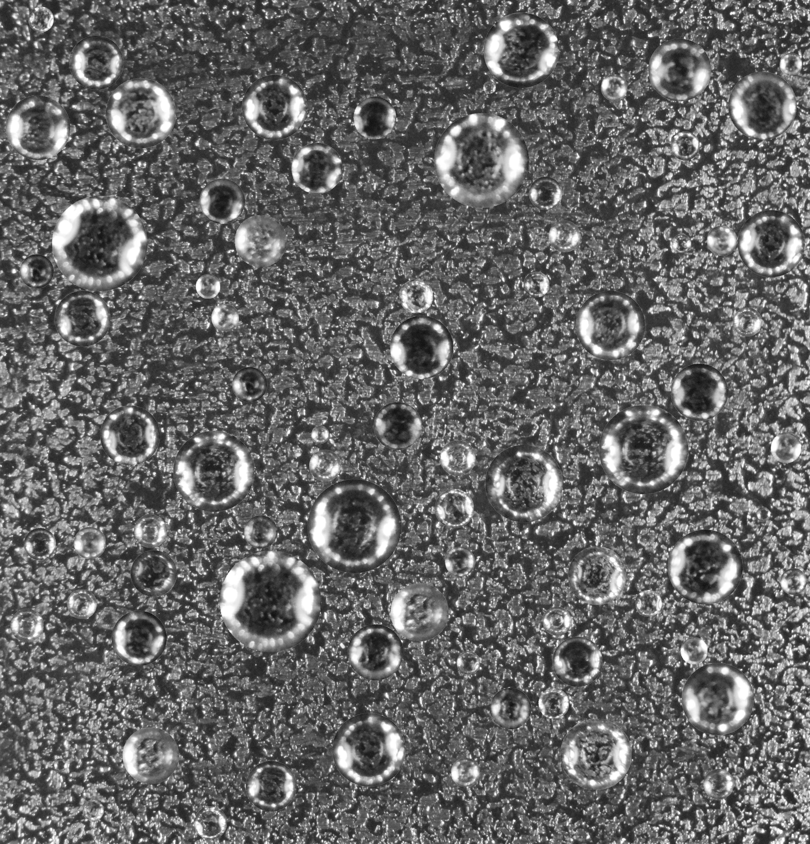Bubble: (219, 550, 321, 652), (52, 195, 147, 291), (434, 113, 528, 207), (307, 479, 401, 573), (599, 405, 688, 494), (173, 430, 254, 511), (485, 444, 562, 522), (483, 12, 559, 87), (668, 529, 742, 604), (332, 713, 405, 786), (681, 663, 753, 735), (560, 718, 631, 789), (105, 78, 175, 148), (575, 290, 645, 360), (728, 71, 796, 139), (737, 210, 804, 277), (242, 74, 307, 139), (5, 95, 70, 159), (390, 315, 453, 379), (648, 38, 711, 101), (100, 405, 159, 465), (568, 546, 626, 604), (390, 583, 448, 641), (671, 363, 728, 420), (347, 624, 403, 680), (122, 727, 178, 783), (54, 290, 110, 346), (111, 610, 166, 665), (69, 35, 123, 89), (234, 215, 286, 266), (291, 142, 342, 193), (245, 761, 296, 811), (552, 636, 602, 686), (373, 402, 421, 449), (130, 550, 176, 596), (199, 178, 244, 223), (353, 96, 396, 139), (489, 688, 531, 729), (434, 489, 473, 528), (440, 440, 475, 475), (232, 367, 267, 402), (399, 279, 433, 313), (19, 254, 53, 288), (10, 608, 43, 642), (529, 176, 562, 209), (193, 806, 226, 839), (244, 515, 277, 548), (133, 514, 166, 547), (548, 220, 580, 252), (23, 528, 55, 560), (73, 527, 105, 559), (309, 449, 340, 481), (538, 688, 569, 718), (703, 769, 733, 799), (771, 432, 801, 462), (707, 225, 737, 255), (445, 546, 474, 576), (670, 131, 699, 160), (67, 589, 96, 618), (732, 307, 761, 336), (542, 606, 571, 635), (451, 758, 479, 786), (211, 303, 238, 331), (680, 637, 707, 664), (601, 74, 627, 100), (780, 568, 806, 594), (635, 590, 661, 616), (523, 271, 549, 297), (28, 6, 53, 31), (195, 274, 220, 298), (456, 651, 480, 674), (779, 52, 802, 75), (82, 800, 103, 821), (672, 234, 691, 253), (311, 425, 329, 443), (499, 617, 513, 631), (756, 507, 770, 521), (53, 758, 66, 772), (483, 81, 495, 93), (617, 144, 627, 154)
